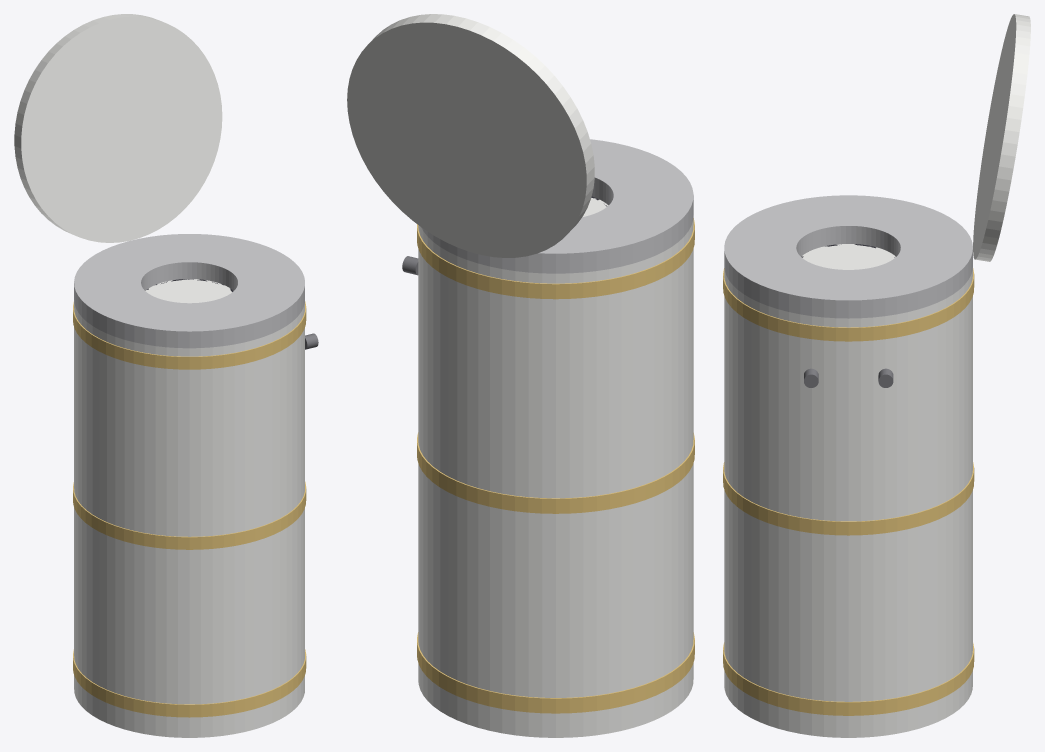
The model's file is sci05_survey_telescope_s_door_open.glb.
3 renders of one model, left to right at view 1: azimuth 30°, elevation 25°; view 2: azimuth 150°, elevation 25°; view 3: azimuth 270°, elevation 25°, orthographic. The views are drawn at different scales.
Visible parts, largest first — view 1: tube, door, baffle, tube_bands; view 2: tube, door, tube_bands, baffle; view 3: tube, baffle, tube_bands, door, star_trackers.
Part boxes in pixels (<box>): tube: <box>74,279,304,737</box>; door: <box>14,14,222,242</box>; baffle: <box>74,234,304,348</box>; tube_bands: <box>73,301,306,717</box>; tube: <box>418,198,693,737</box>; door: <box>347,14,594,257</box>; tube_bands: <box>417,218,694,713</box>; baffle: <box>421,139,693,273</box>; tube: <box>724,244,972,737</box>; baffle: <box>724,195,972,318</box>; tube_bands: <box>723,268,974,715</box>; door: <box>973,14,1030,261</box>; star_trackers: <box>804,368,893,387</box>.
Size of the model in its own units: 1.31 by 3.66 by 1.55.
